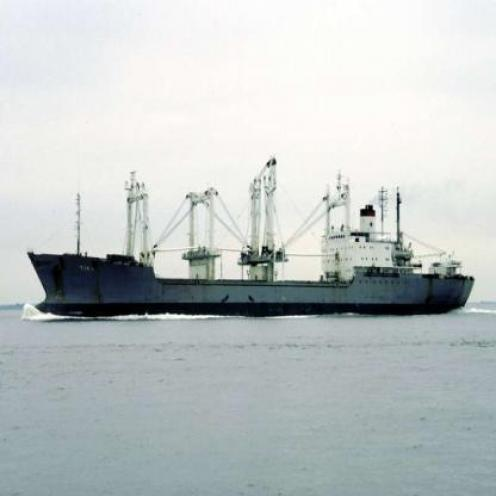Ship: (18, 189, 487, 319)
